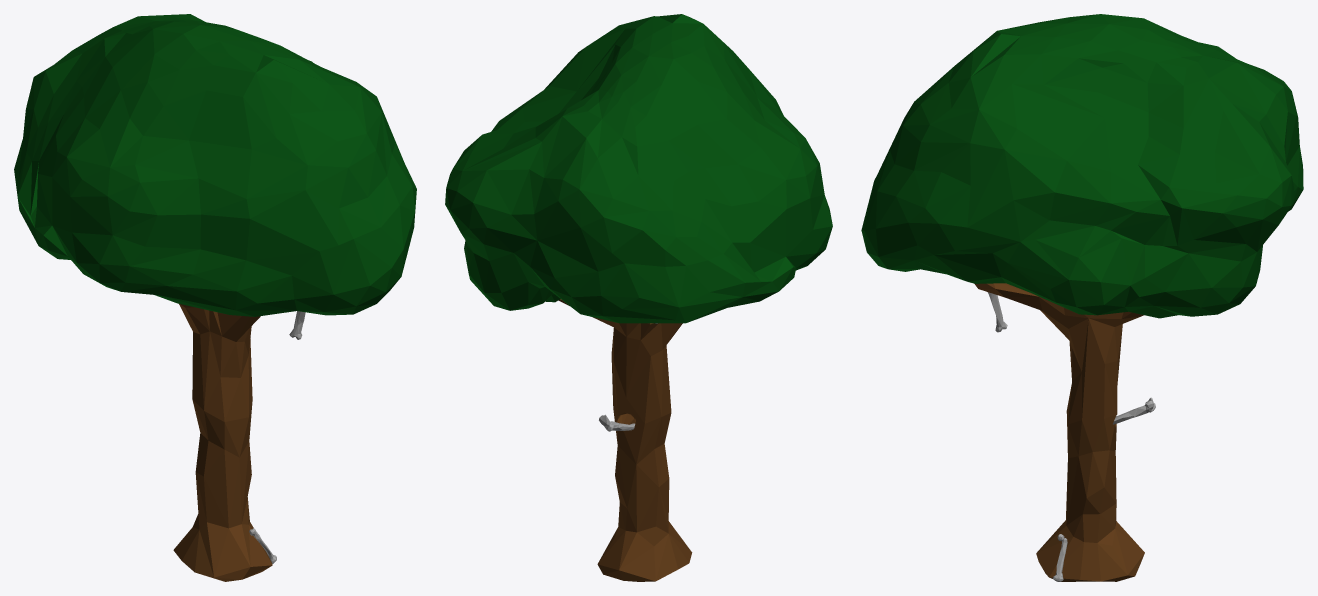
The model's file is kondipuu.fbx.
The picture shows the model from 3 angles, left to right: view 1: azimuth 30°, elevation 25°; view 2: azimuth 150°, elevation 25°; view 3: azimuth 270°, elevation 25°; orthographic projection. The views are drawn at different scales.
Visible parts, largest first — view 1: Cylinder.002; view 2: Cylinder.002; view 3: Cylinder.002.
Boxes of the visible parts, left/top/right/bottom form: Cylinder.002: left=14, top=14, right=416, bottom=581; Cylinder.002: left=445, top=14, right=832, bottom=581; Cylinder.002: left=861, top=14, right=1303, bottom=581.
Size of the model in its own units: 2230 by 3456 by 2579.
